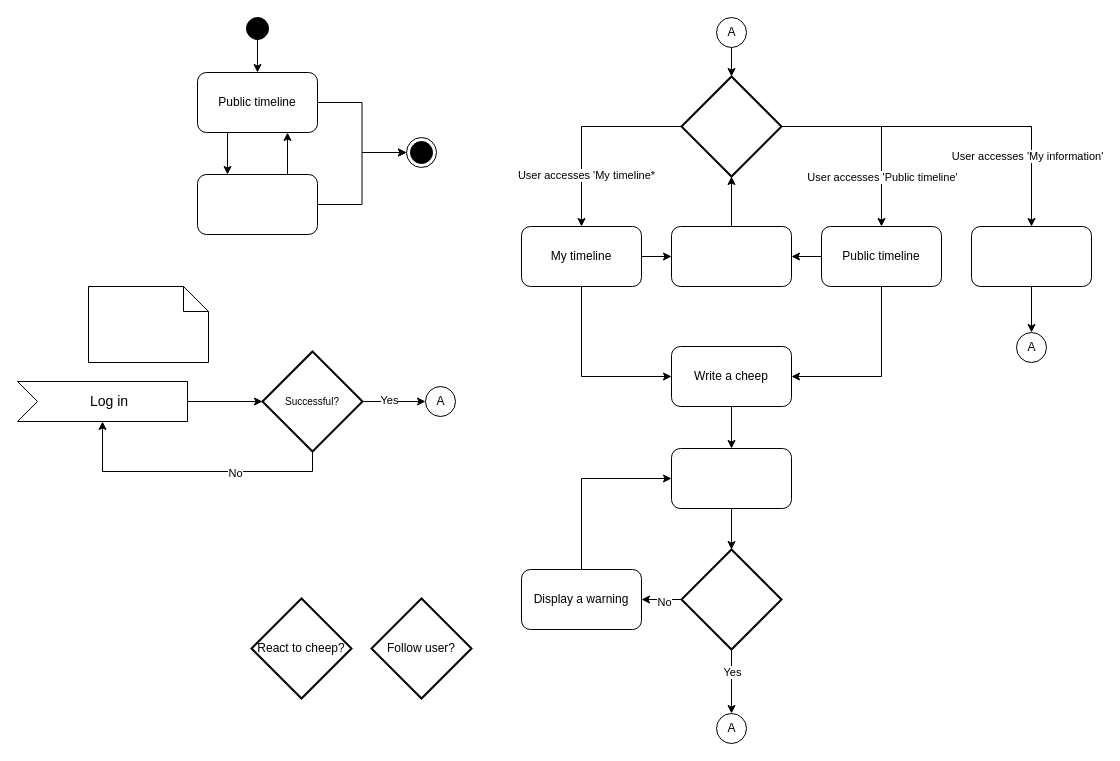
The diagram is 1120 pixels wide and 761 high, and some of its shapes have lost their labels. The shapes that lost their labels are listed below. From the top down, each one's centre as x and y in pixels, then its label:
pixel 731 126: User uses the navigation bar
pixel 257 204: Private timeline
pixel 731 256: User timeline
pixel 1031 256: User information page
pixel 148 324: User can log in at any time when not currently logged in
pixel 731 478: Share cheep
pixel 731 599: Is the cheep valid?
